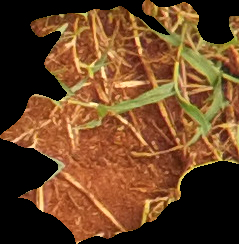soil: (3, 2, 236, 240)
